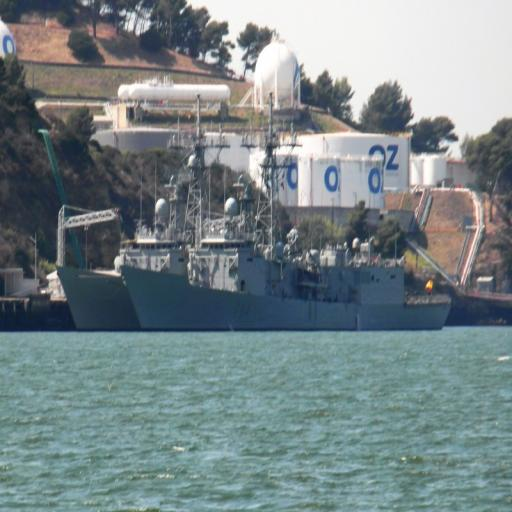Fragata: (121, 174, 456, 335)
